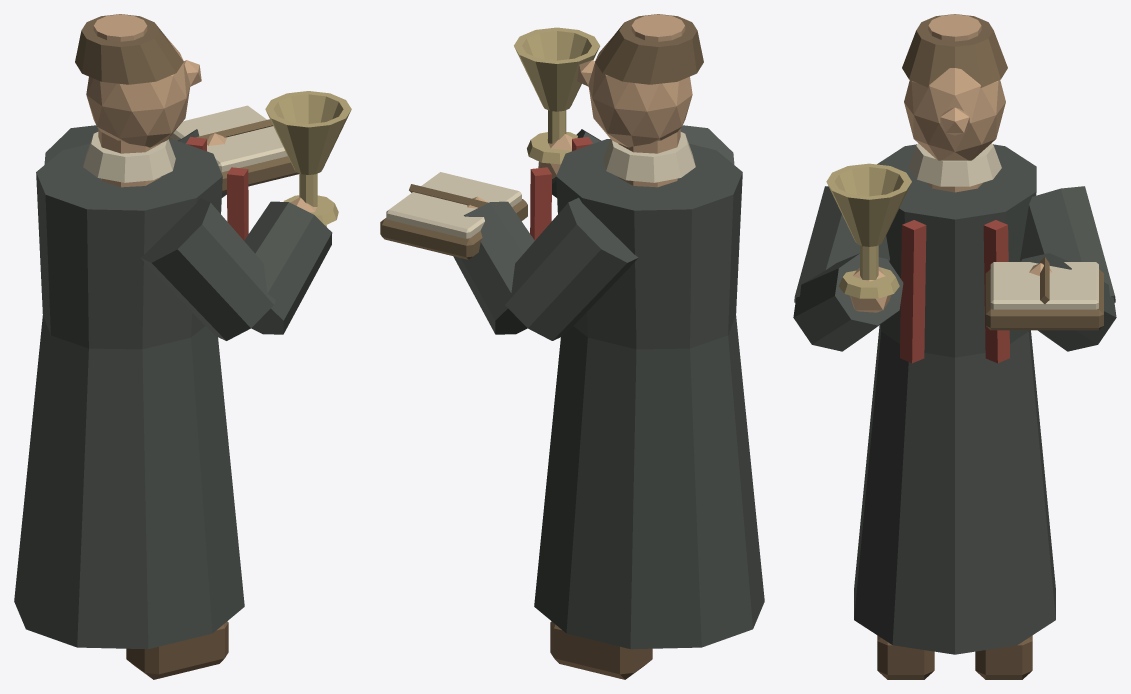
The model's file is commander_cleric.glb.
The picture shows the model from 3 angles, left to right: view 1: azimuth 30°, elevation 25°; view 2: azimuth 150°, elevation 25°; view 3: azimuth 270°, elevation 25°; orthographic projection.
Visible parts, largest first — view 1: commander_cleric_cleric_robe, commander_cleric_skin, commander_cleric_linen, commander_cleric_oak_dark, commander_cleric_chalice_metal, commander_cleric_leather, commander_cleric_team_cloth; view 2: commander_cleric_cleric_robe, commander_cleric_skin, commander_cleric_oak_dark, commander_cleric_linen, commander_cleric_chalice_metal, commander_cleric_leather, commander_cleric_team_cloth; view 3: commander_cleric_cleric_robe, commander_cleric_skin, commander_cleric_oak_dark, commander_cleric_linen, commander_cleric_chalice_metal, commander_cleric_team_cloth, commander_cleric_leather.
Part boxes in pixels (x1,y1,x2,y2): commander_cleric_cleric_robe: (14, 125, 332, 649); commander_cleric_skin: (86, 14, 326, 226); commander_cleric_linen: (83, 105, 287, 182); commander_cleric_oak_dark: (75, 14, 299, 192); commander_cleric_chalice_metal: (265, 91, 351, 225); commander_cleric_leather: (126, 621, 228, 679); commander_cleric_team_cloth: (186, 136, 248, 240); commander_cleric_cleric_robe: (453, 125, 764, 649); commander_cleric_skin: (467, 14, 692, 208); commander_cleric_oak_dark: (380, 14, 703, 259); commander_cleric_linen: (386, 132, 695, 238); commander_cleric_chalice_metal: (514, 27, 599, 164); commander_cleric_leather: (550, 621, 652, 679); commander_cleric_team_cloth: (530, 137, 592, 240); commander_cleric_cleric_robe: (793, 144, 1116, 654); commander_cleric_skin: (850, 14, 1052, 312); commander_cleric_oak_dark: (902, 14, 1103, 330); commander_cleric_linen: (908, 143, 1098, 309); commander_cleric_chalice_metal: (826, 163, 911, 298); commander_cleric_team_cloth: (900, 220, 1009, 363); commander_cleric_leather: (877, 635, 1032, 679).
Size of the model in its own units: 0.84 by 1.68 by 0.7915.
